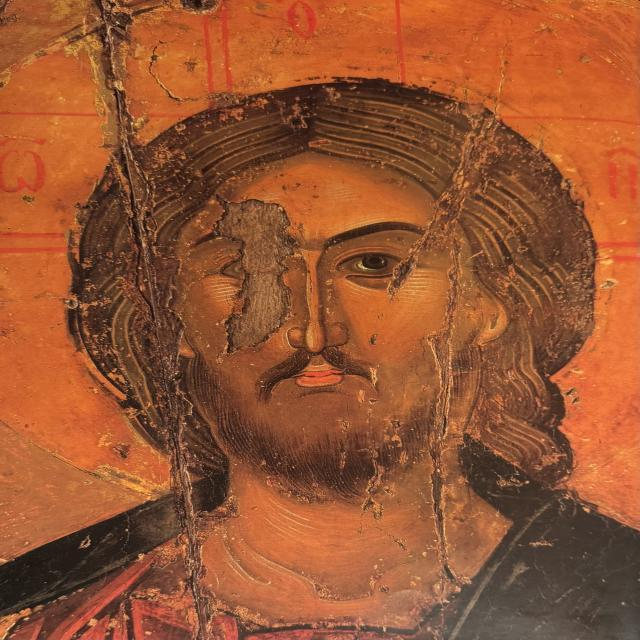christ: (36, 34, 613, 625)
